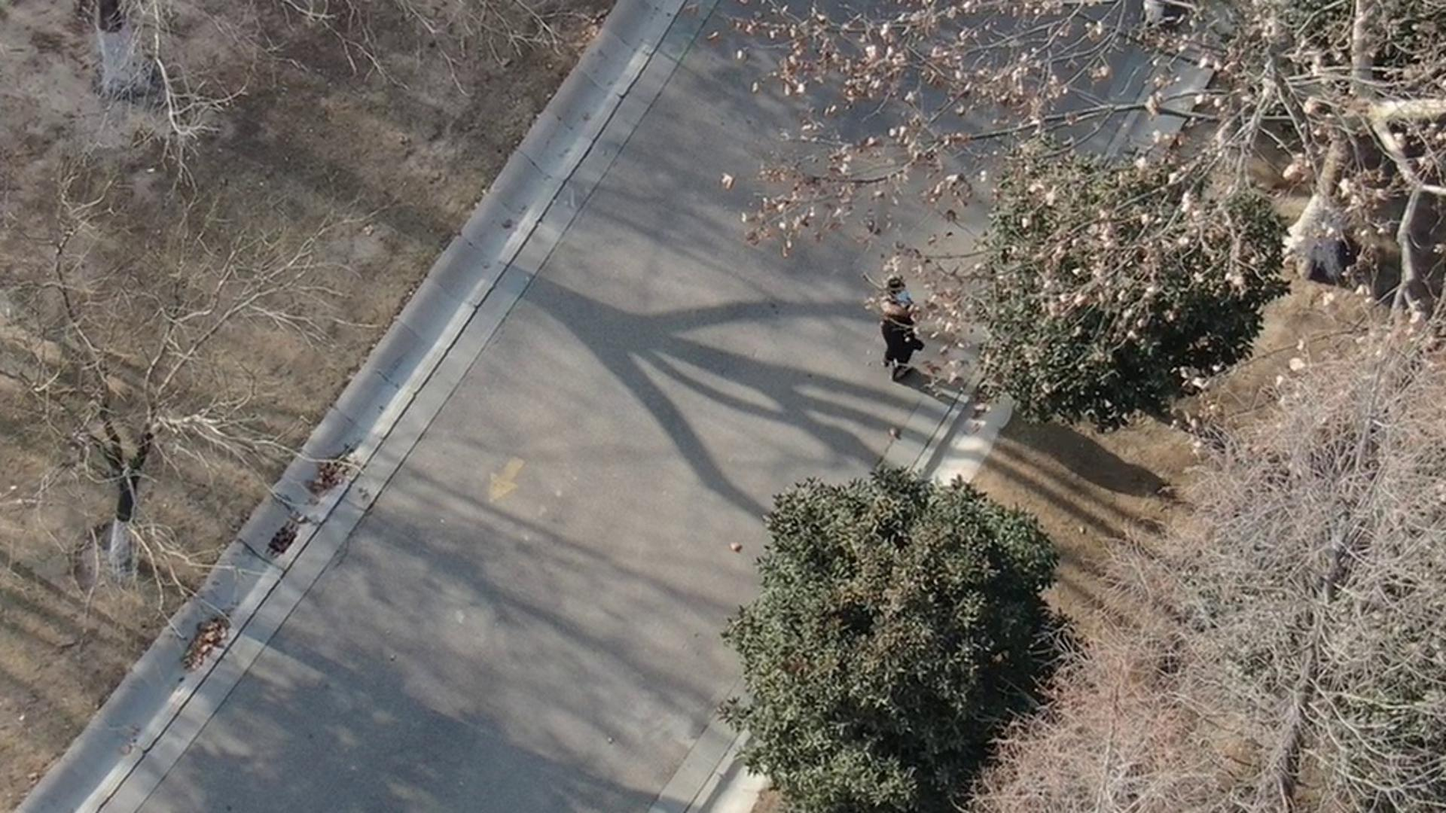human: (859, 239, 907, 358)
